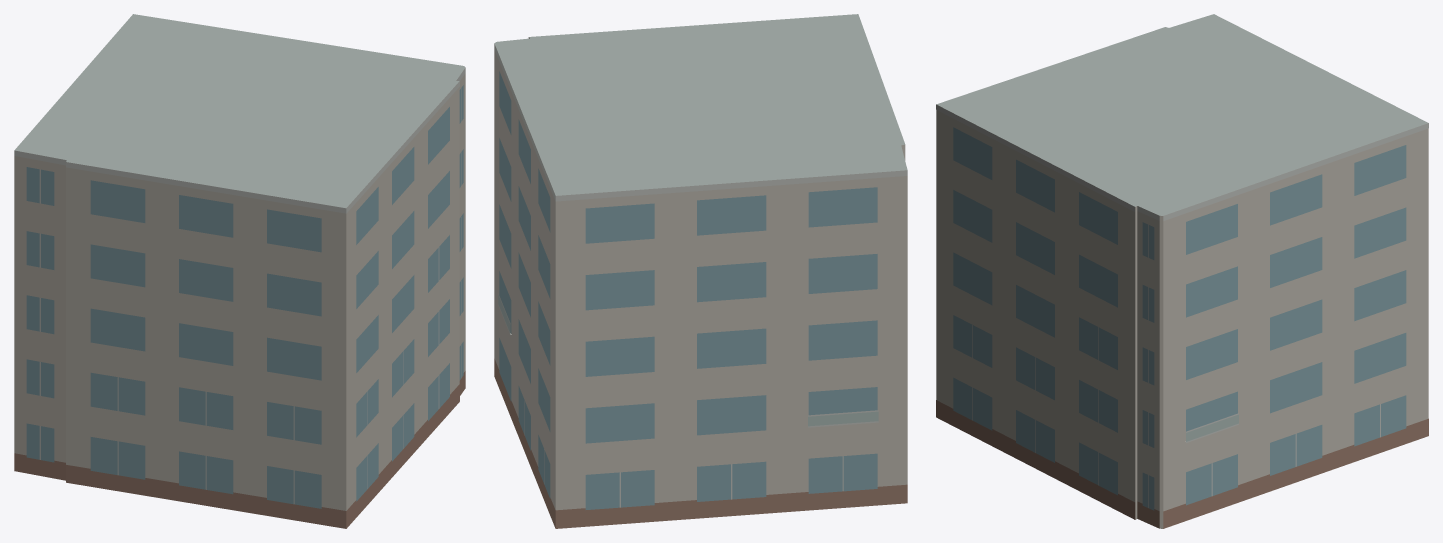
The model's file is survey-upis-32915991.glb.
3 renders of one model, left to right at view 1: azimuth 30°, elevation 25°; view 2: azimuth 150°, elevation 25°; view 3: azimuth 270°, elevation 25°, orthographic. The views are drawn at different scales.
Parts seen in each view (by area): view 1: survey-upis-32915991.tmp; view 2: survey-upis-32915991.tmp; view 3: survey-upis-32915991.tmp.
Boxes of the visible parts, x1,y1,x2,y2 form: survey-upis-32915991.tmp: (14,14,465,528); survey-upis-32915991.tmp: (494,14,907,528); survey-upis-32915991.tmp: (936,14,1428,528).
Size of the model in its own units: 19.93 by 14.4 by 20.55.
